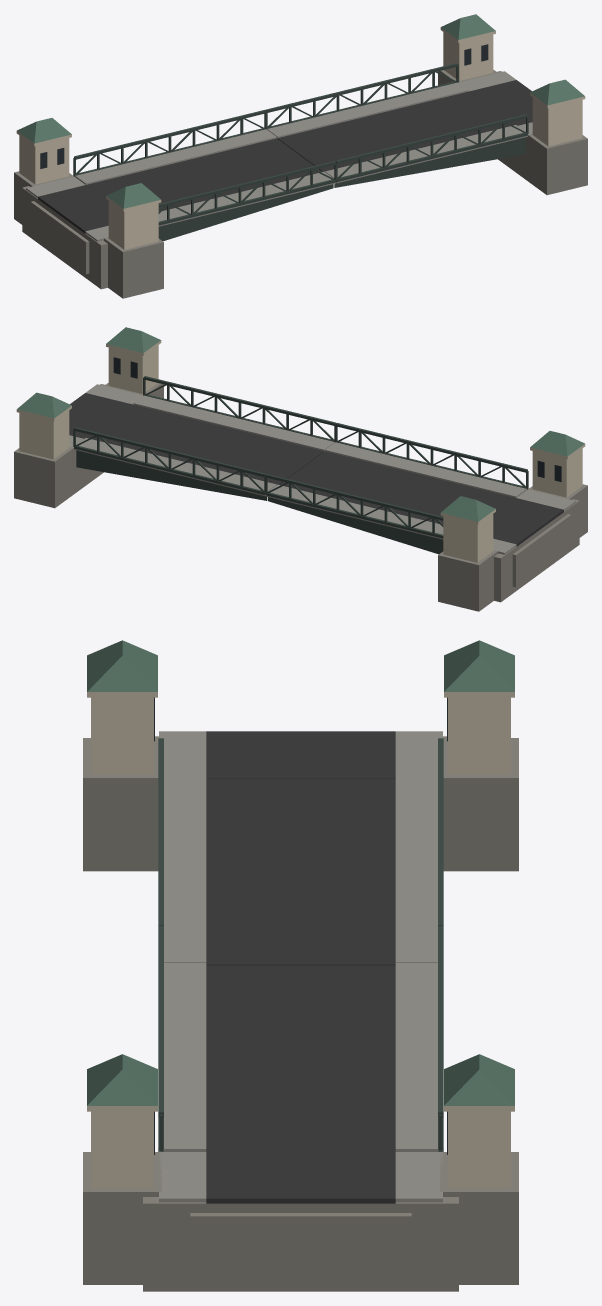
File: bascule_bridge.glb
3 views of the same model, one above another, from view 1: azimuth 30°, elevation 25°; view 2: azimuth 150°, elevation 25°; view 3: azimuth 270°, elevation 25° (orthographic). The views are drawn at different scales.
Parts seen in each view (by area): view 1: bridge_fixed, leaf_w, leaf_e; view 2: bridge_fixed, leaf_w, leaf_e; view 3: bridge_fixed, leaf_e, leaf_w.
Part boxes in pixels (x1,y1,x2,y2): bridge_fixed: (14,14,587,298); leaf_w: (30,110,336,274); leaf_e: (266,63,528,187); bridge_fixed: (14,327,587,611); leaf_w: (265,423,571,587); leaf_e: (73,376,335,500); bridge_fixed: (83,640,518,1291); leaf_e: (158,925,443,1280); leaf_w: (158,738,443,965).
Size of the model in its own units: 71 by 14.2 by 27.6.
Materials: 1 (1 with a texture image).
